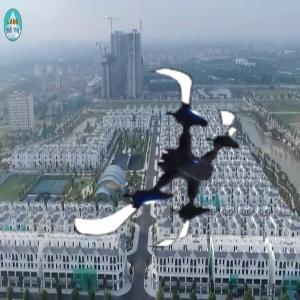drone: (76, 65, 265, 254)
